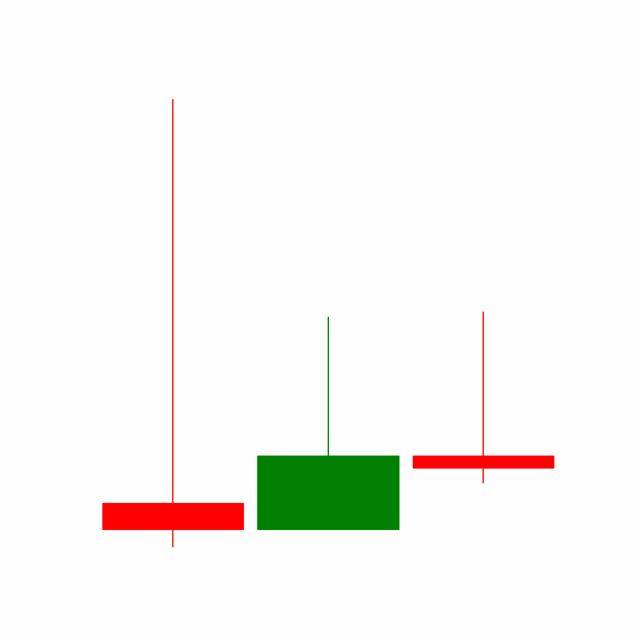Gravestone Doji: (405, 309, 561, 486)
